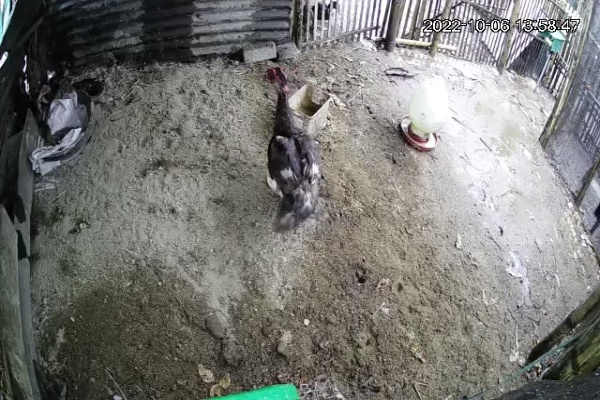Entog: (246, 54, 332, 246)
